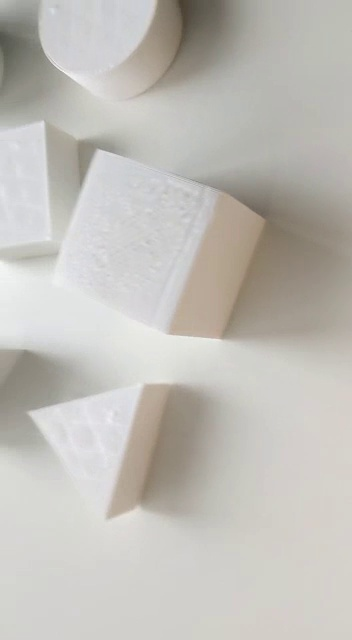Clyinder_short: (31, 1, 200, 104)
Cube: (42, 142, 273, 342)
Cube_short: (1, 120, 98, 262)
Triangle_short: (24, 380, 171, 527)
